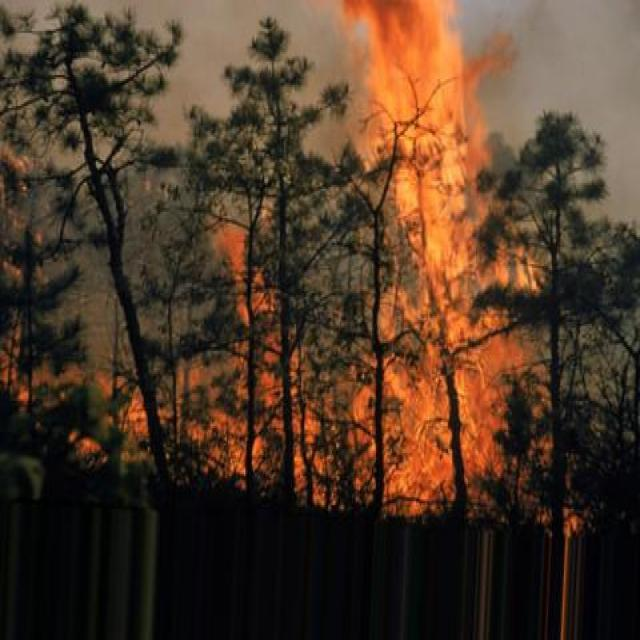Fire: (354, 1, 496, 526)
